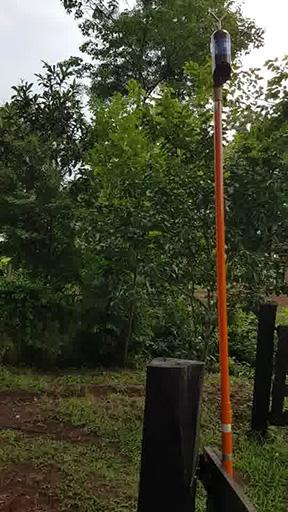Vara_Manobra: (211, 84, 233, 476), (209, 6, 233, 86)
